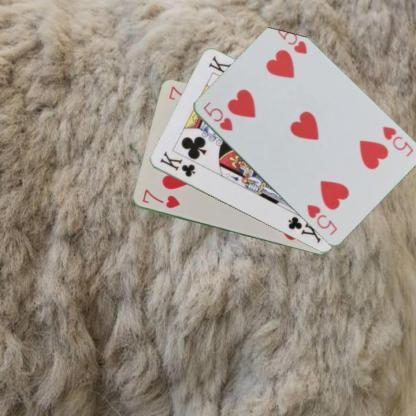5h: (380, 124, 414, 158), (199, 100, 233, 132)
7h: (140, 186, 182, 209)
Kc: (158, 148, 196, 178)
